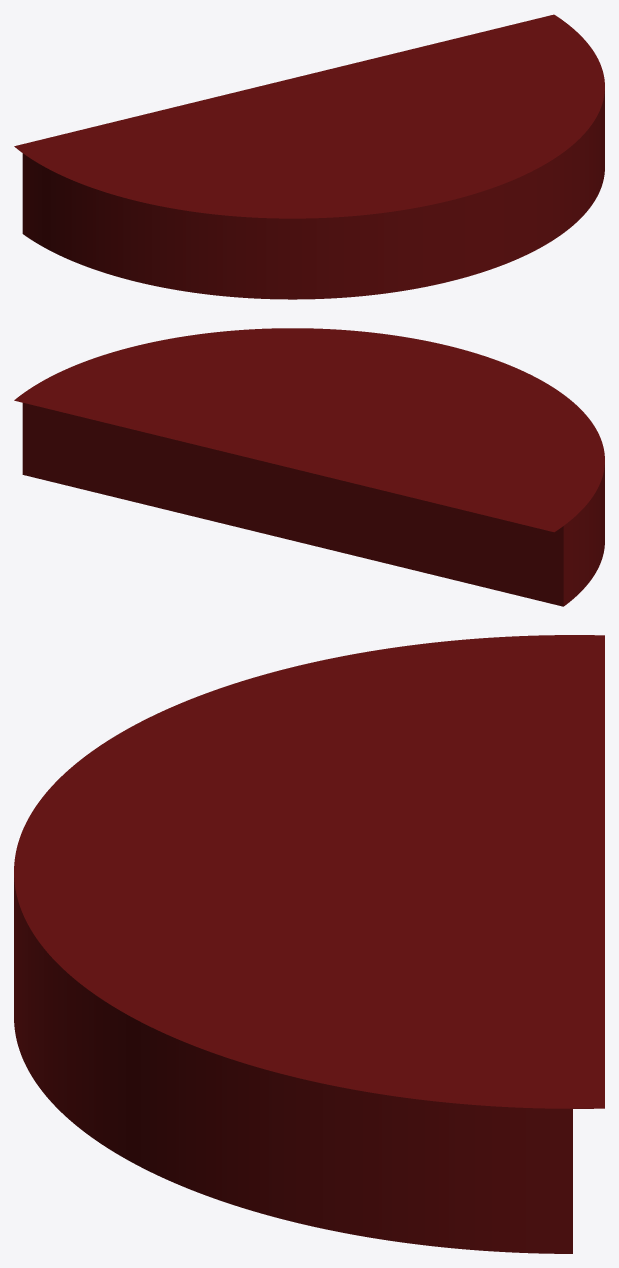
File: red_half_cylinder.dae
3 views of the same model, one above another, from view 1: azimuth 30°, elevation 25°; view 2: azimuth 150°, elevation 25°; view 3: azimuth 270°, elevation 25° (orthographic). The views are drawn at different scales.
Parts seen in each view (by area): view 1: Cylinder_cervena_pushoff; view 2: Cylinder_cervena_pushoff; view 3: Cylinder_cervena_pushoff.
Boxes of the visible parts, x1,y1,x2,y2 form: Cylinder_cervena_pushoff: (14,14,604,299); Cylinder_cervena_pushoff: (14,328,604,606); Cylinder_cervena_pushoff: (14,635,604,1253).
Size of the model in its own units: 0.7 by 0.369 by 0.1.
